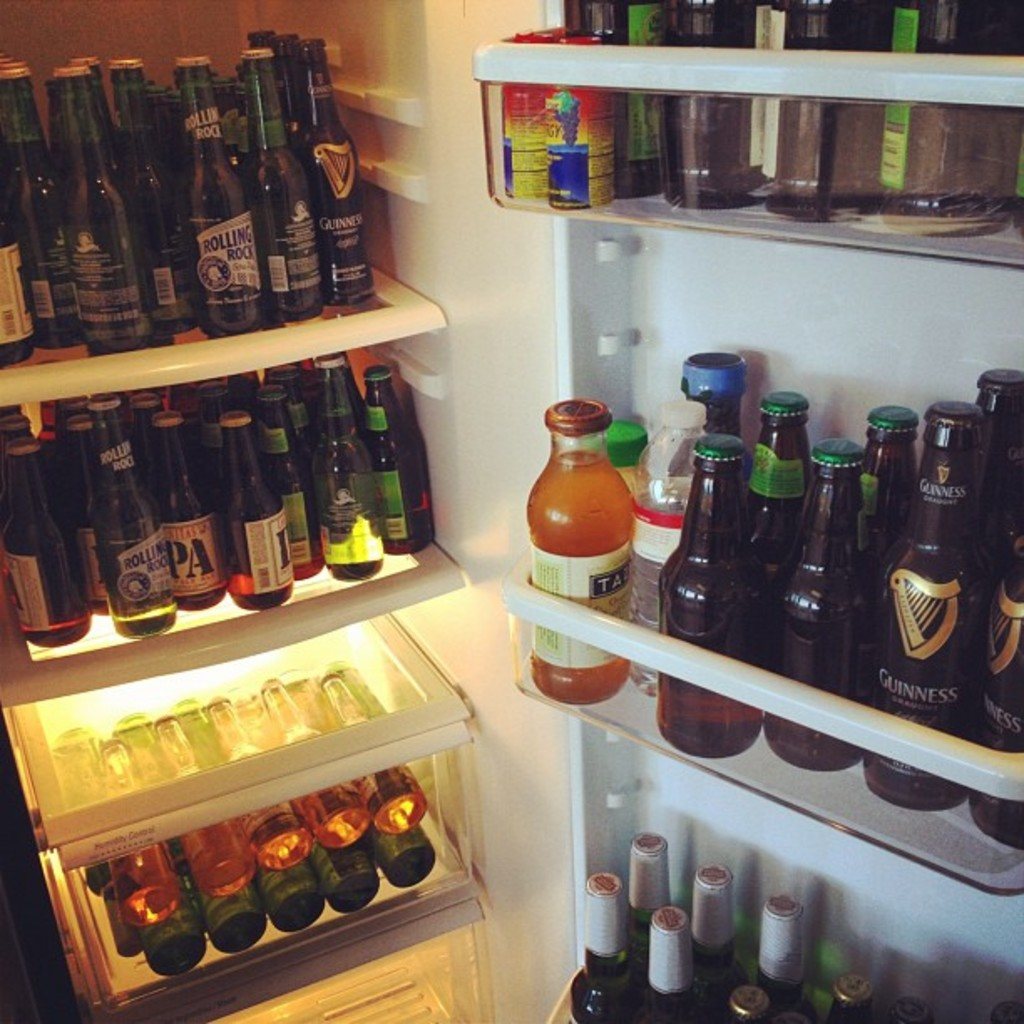refrigerator door: (603, 117, 1016, 1024)
